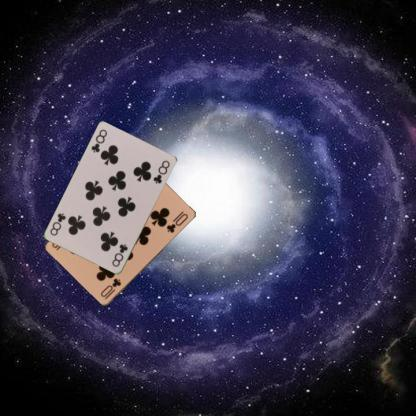10c: (98, 276, 123, 301)
8c: (109, 242, 130, 268), (88, 127, 108, 154)
